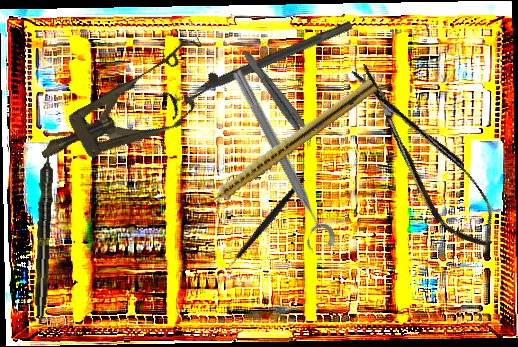Chopper: (203, 175, 329, 279)
Fixation Ring: (218, 66, 339, 257), (161, 10, 358, 122)
Handpiece: (194, 75, 379, 216), (32, 142, 57, 319)
Micro Scissor: (341, 48, 509, 262)
Speculum: (24, 30, 231, 190)
Tissue Forceps: (235, 47, 320, 150)
